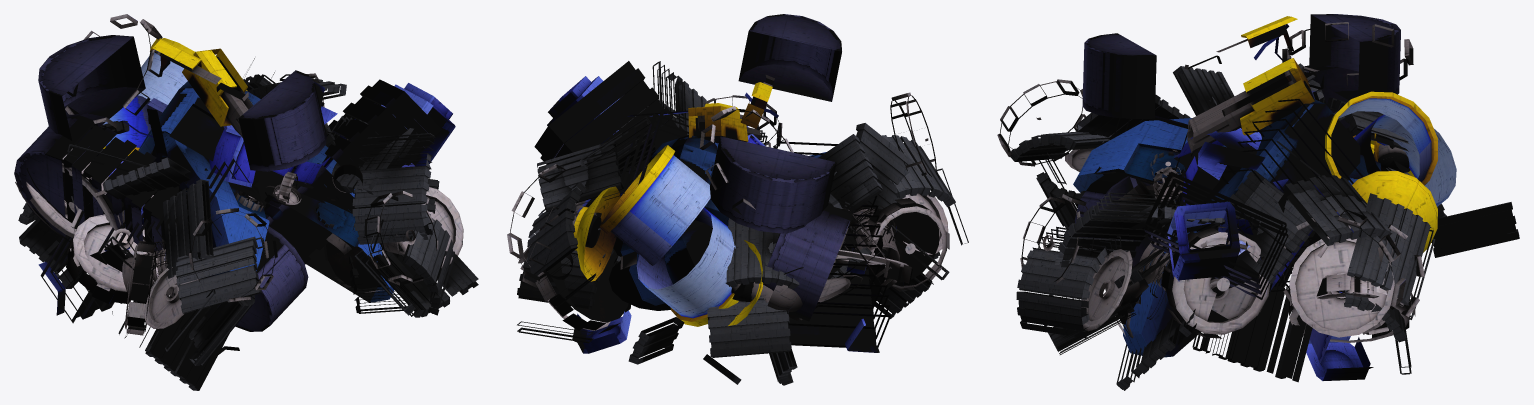
Rendered from PlayerB_die11.obj.
3 renders of one model, left to right at view 1: azimuth 30°, elevation 25°; view 2: azimuth 150°, elevation 25°; view 3: azimuth 270°, elevation 25°, orthographic. The views are drawn at different scales.
Visible parts, largest first — view 1: Object005; view 2: Object005; view 3: Object005.
Part boxes in pixels (left/top/right/bottom): Object005: left=14, top=14, right=478, bottom=390; Object005: left=507, top=14, right=968, bottom=385; Object005: left=997, top=14, right=1519, bottom=390.
Bounding box in the file's own units: 175 × 124 × 200.
2 materials, 2 textured.
